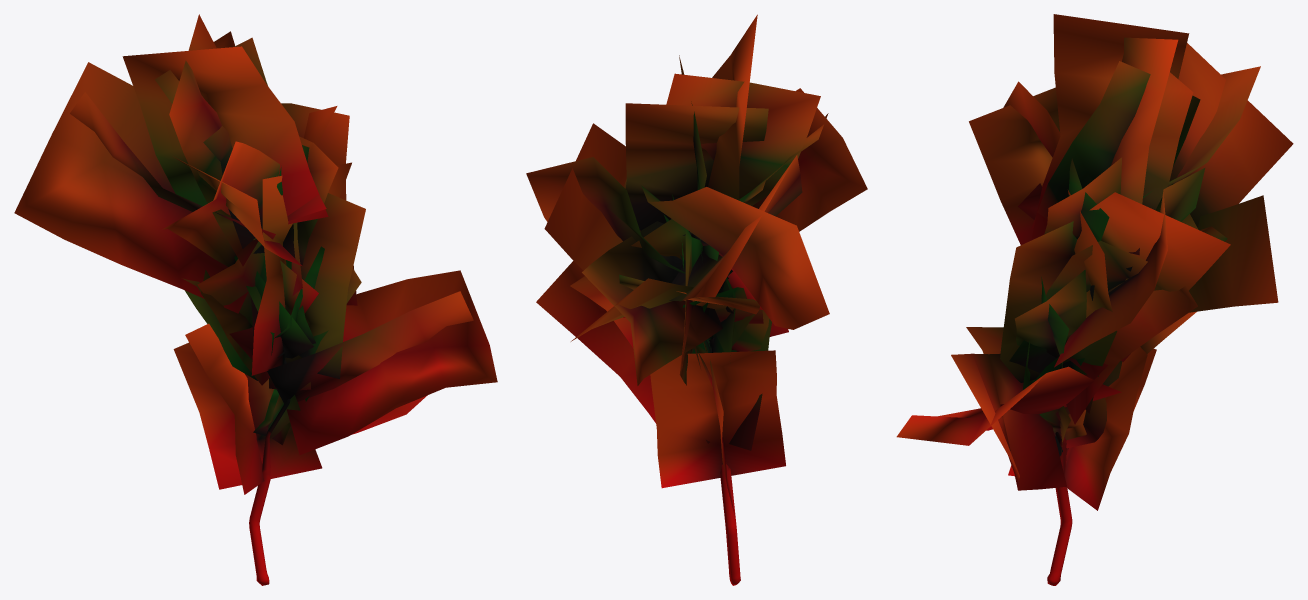
File: GenericTreeBushA_Winter.fbx
3 views of the same model, side by side, from view 1: azimuth 30°, elevation 25°; view 2: azimuth 150°, elevation 25°; view 3: azimuth 270°, elevation 25° (orthographic). The views are drawn at different scales.
Parts seen in each view (by area): view 1: GTBAW_Leaves_LOD0, GTBAW_Branch_LOD0; view 2: GTBAW_Leaves_LOD0, GTBAW_Branch_LOD0; view 3: GTBAW_Leaves_LOD0, GTBAW_Branch_LOD0.
Part boxes in pixels (x1,y1,x2,y2): GTBAW_Leaves_LOD0: [14, 14, 497, 494]; GTBAW_Branch_LOD0: [249, 359, 290, 585]; GTBAW_Leaves_LOD0: [526, 14, 867, 514]; GTBAW_Branch_LOD0: [709, 335, 740, 585]; GTBAW_Leaves_LOD0: [896, 14, 1293, 510]; GTBAW_Branch_LOD0: [1047, 432, 1072, 585].
Size of the model in its own units: 5.3 by 7.39 by 4.75.
